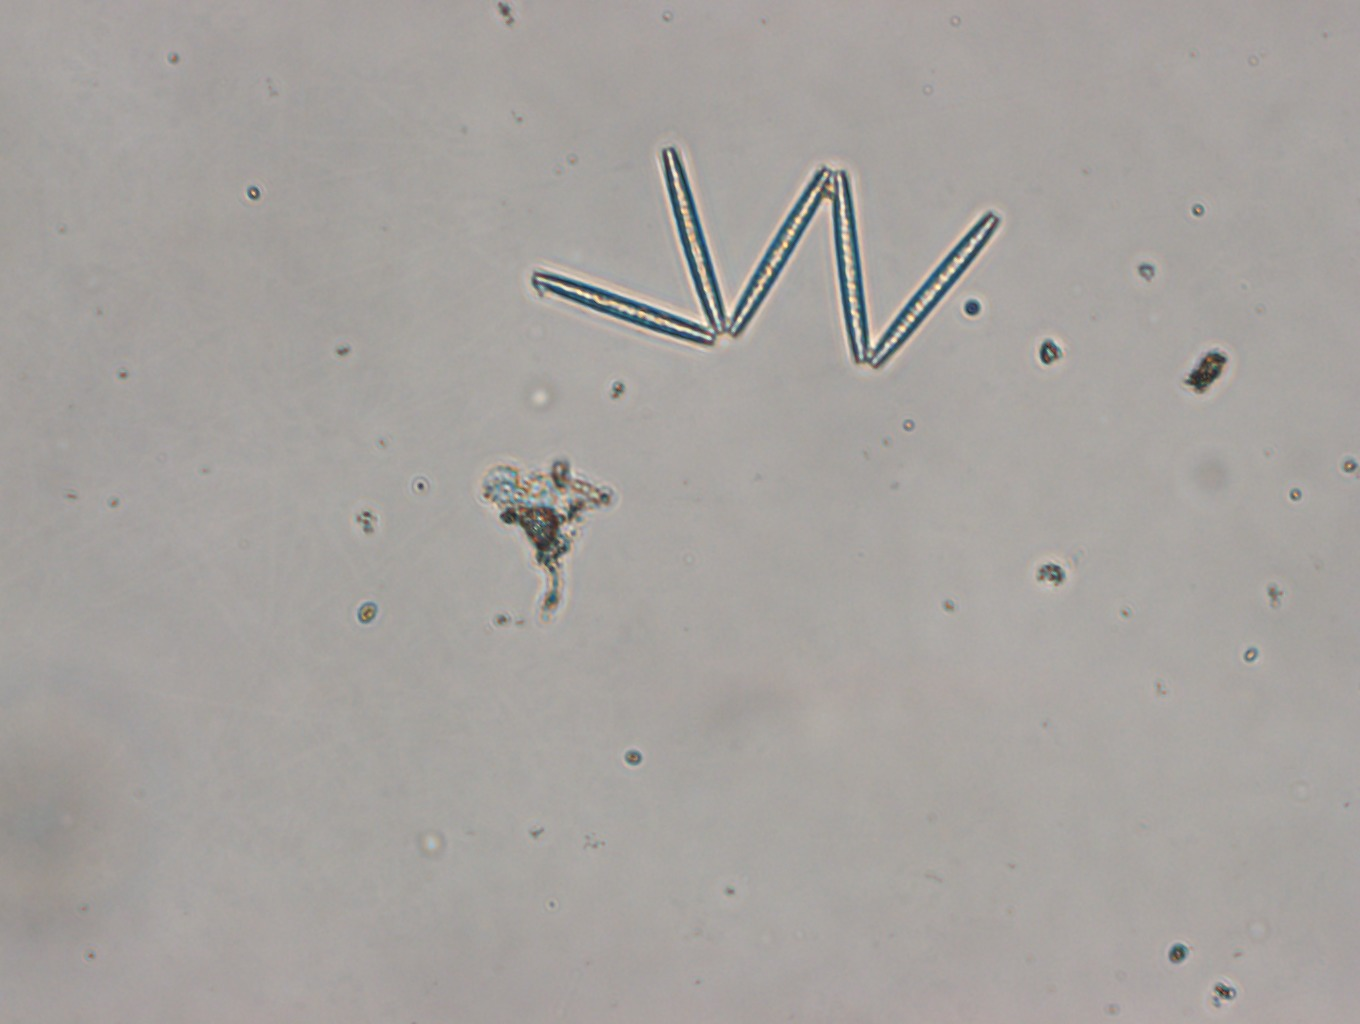thalassionema nitzschioides: (529, 142, 1002, 372)
